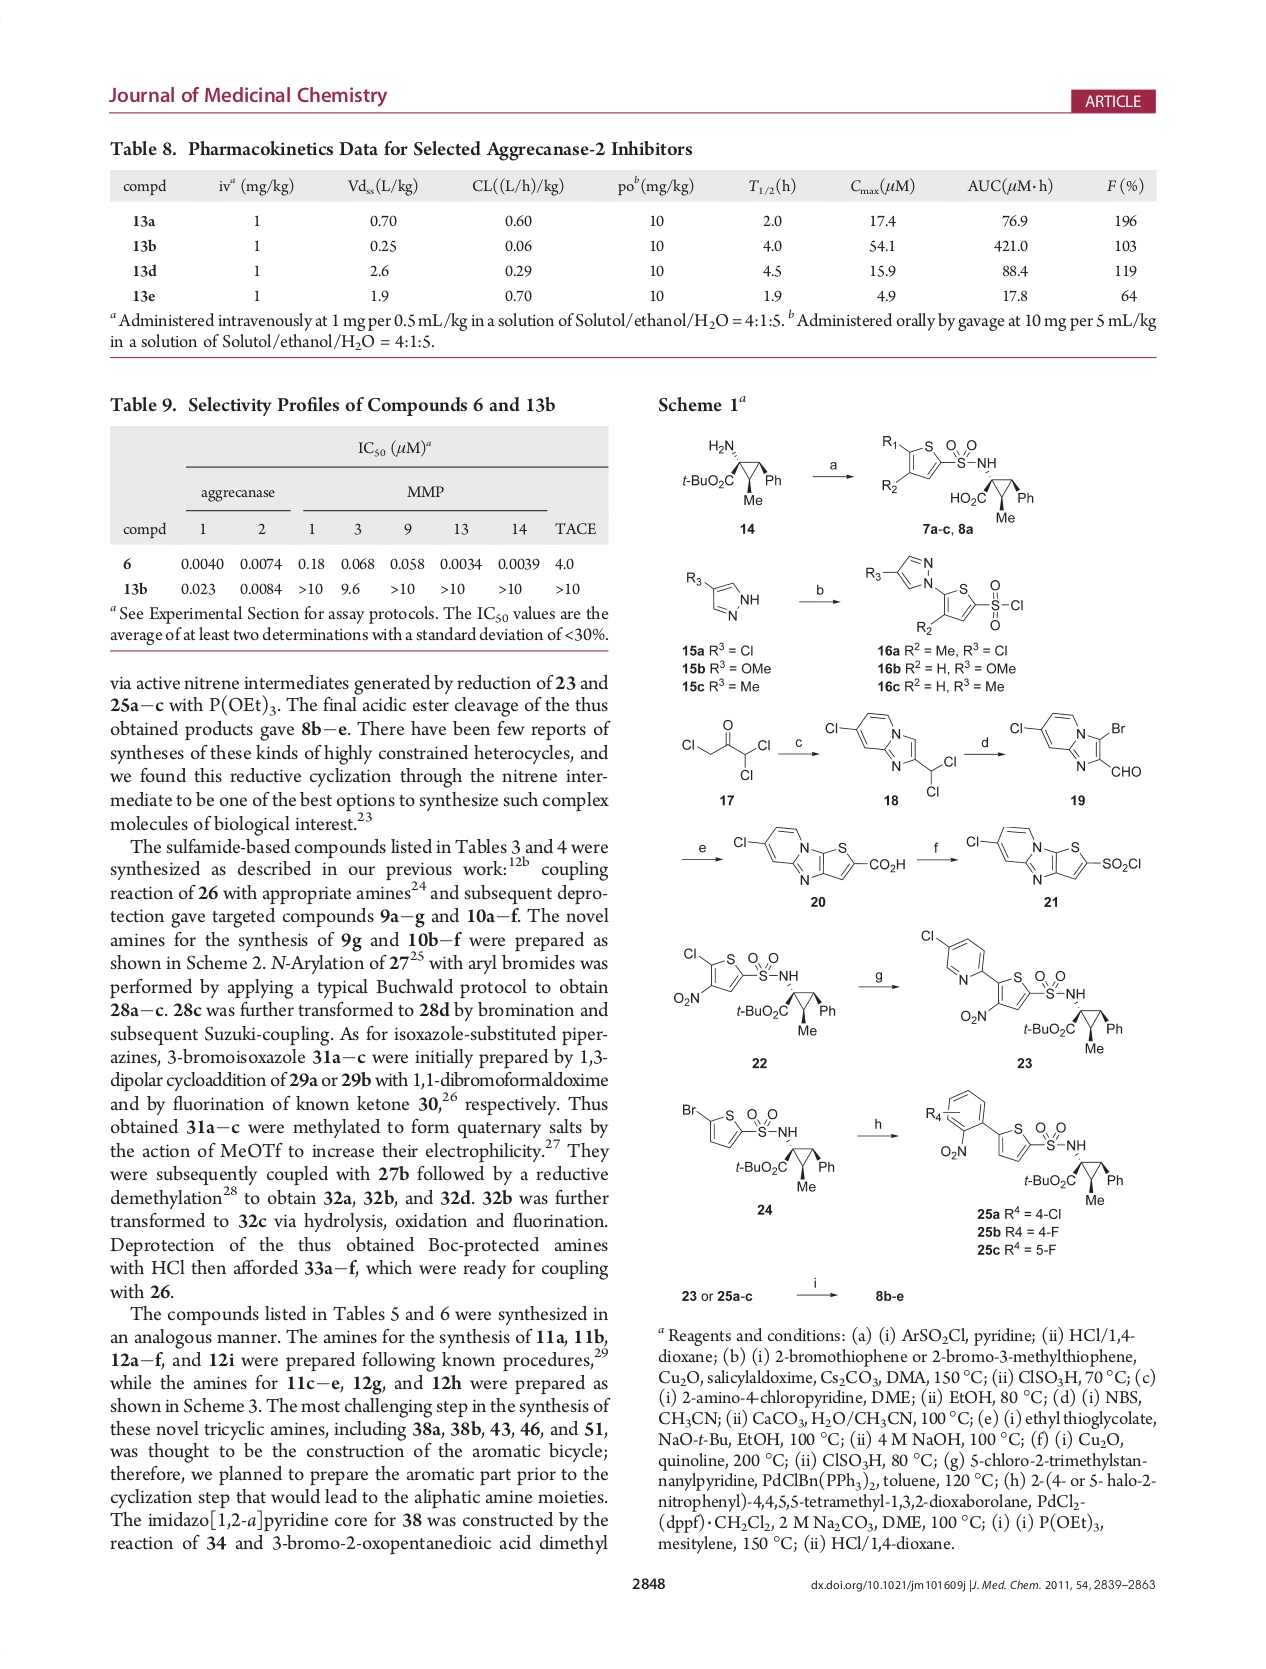exist_molecular: (918, 926, 1126, 1055), (922, 1087, 1125, 1208), (670, 944, 840, 1039), (676, 1098, 836, 1196), (879, 427, 1036, 524), (862, 551, 1025, 637), (823, 707, 960, 798), (965, 823, 1141, 888), (731, 823, 910, 886), (1008, 710, 1142, 782), (681, 438, 789, 509), (677, 715, 777, 785), (684, 567, 761, 624)
